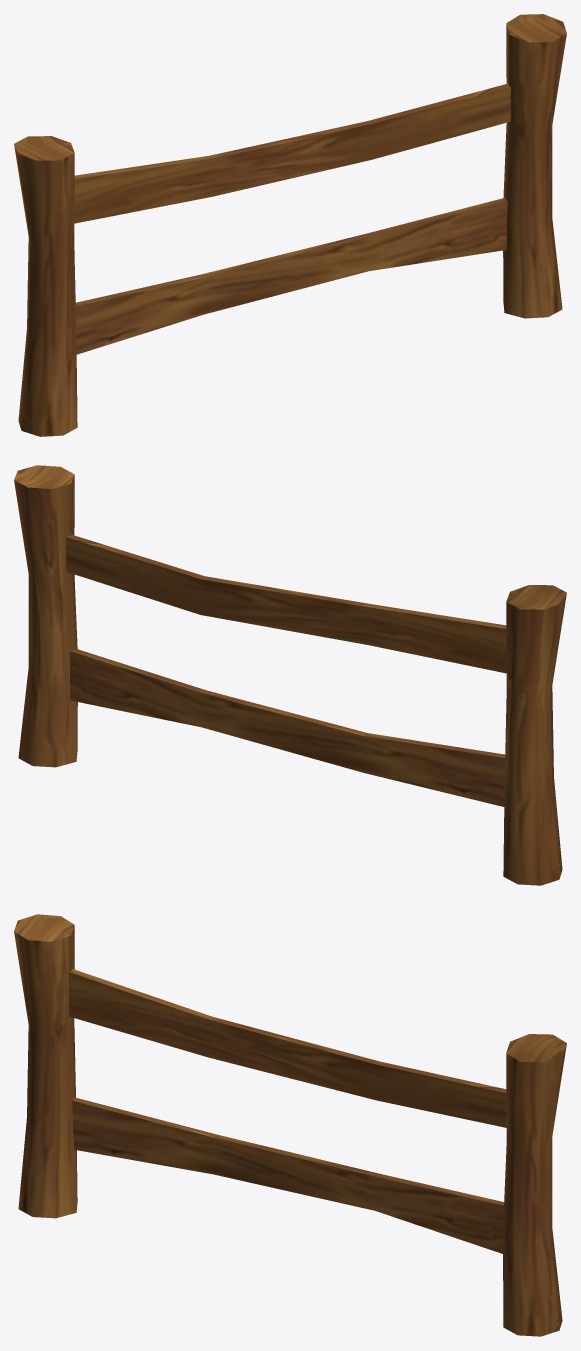
The model's file is Barrier01.FBX.
3 renders of one model, top to bottom at view 1: azimuth 30°, elevation 25°; view 2: azimuth 150°, elevation 25°; view 3: azimuth 330°, elevation 25°, orthographic.
Parts seen in each view (by area): view 1: Barrier_1; view 2: Barrier_1; view 3: Barrier_1.
Boxes of the visible parts, <box> form: Barrier_1: <box>14,14,566,436</box>; Barrier_1: <box>14,465,566,885</box>; Barrier_1: <box>14,914,566,1336</box>.
Bounding box in the file's own units: 1648 × 804 × 172.
